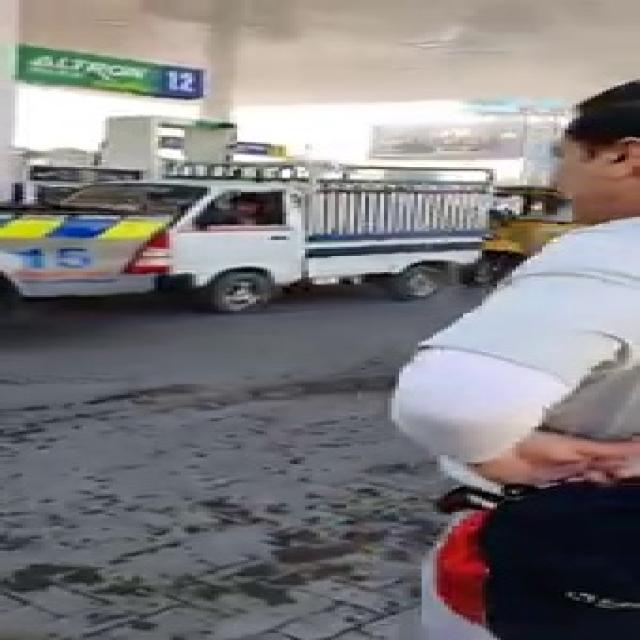police: (0, 196, 179, 305)
